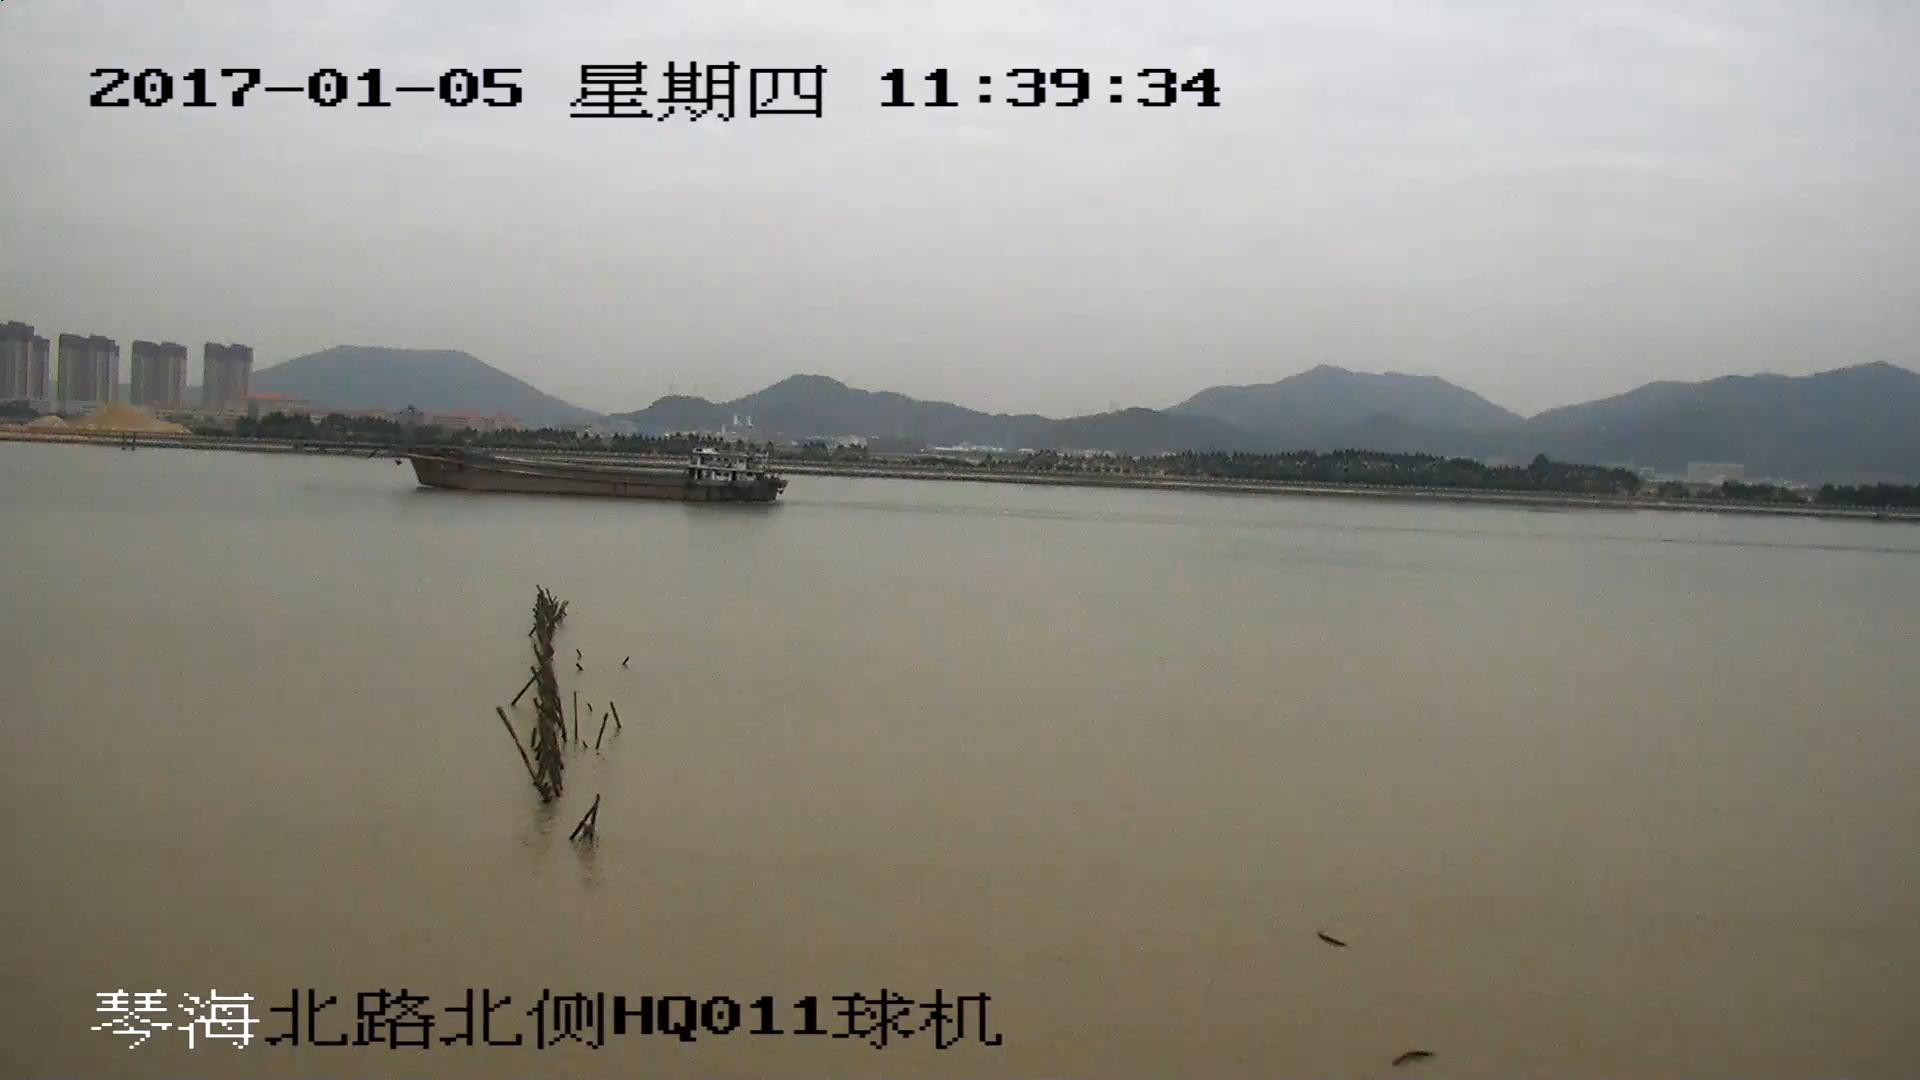bulk cargo carrier: (306, 417, 788, 505)
